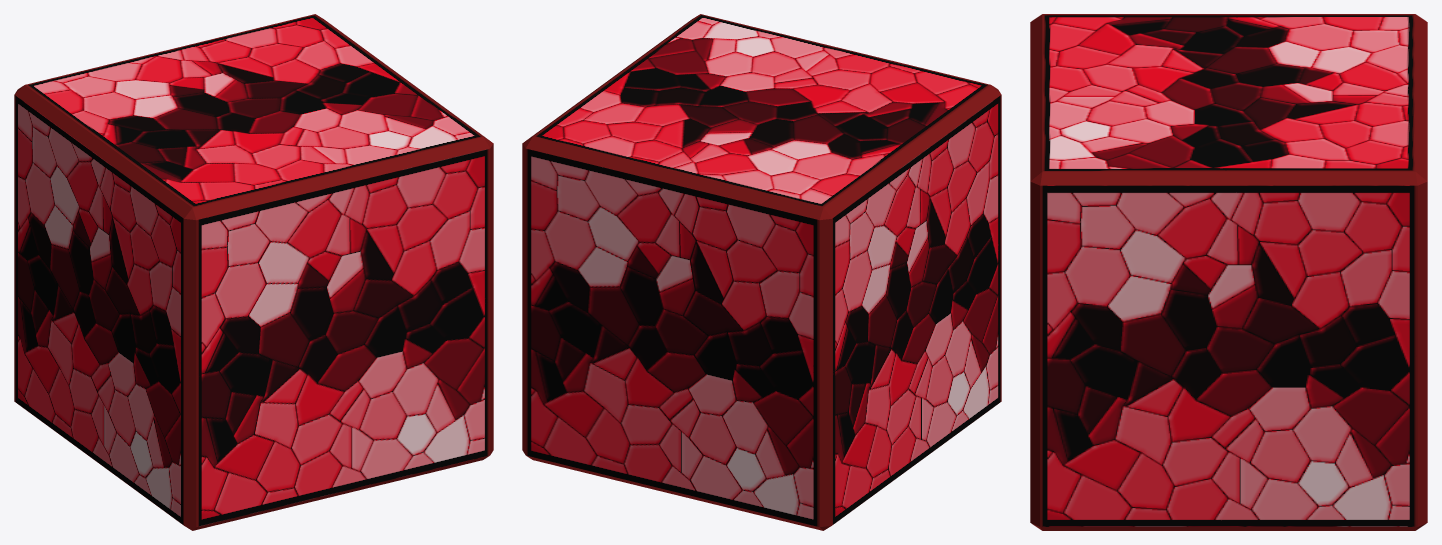
Rendered from switch_block.obj.
The picture shows the model from 3 angles, left to right: view 1: azimuth 30°, elevation 25°; view 2: azimuth 150°, elevation 25°; view 3: azimuth 270°, elevation 25°; orthographic projection. The views are drawn at different scales.
Parts seen in each view (by area): view 1: Switch_Block; view 2: Switch_Block; view 3: Switch_Block.
Part boxes in pixels (x1,y1,x2,y2): Switch_Block: [14, 14, 493, 530]; Switch_Block: [522, 14, 1001, 530]; Switch_Block: [1030, 14, 1427, 530].
Bounding box in the file's own units: 2 × 2 × 2.
Materials: 1 (1 with a texture image).
